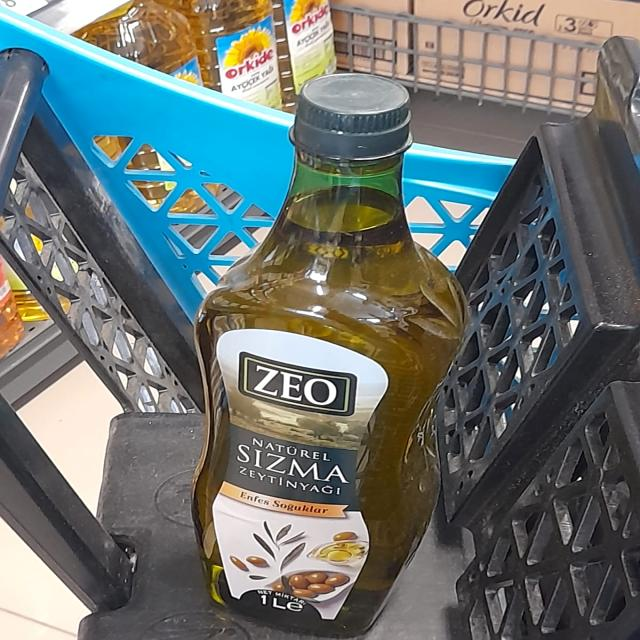olive oil: (193, 196, 444, 626)
